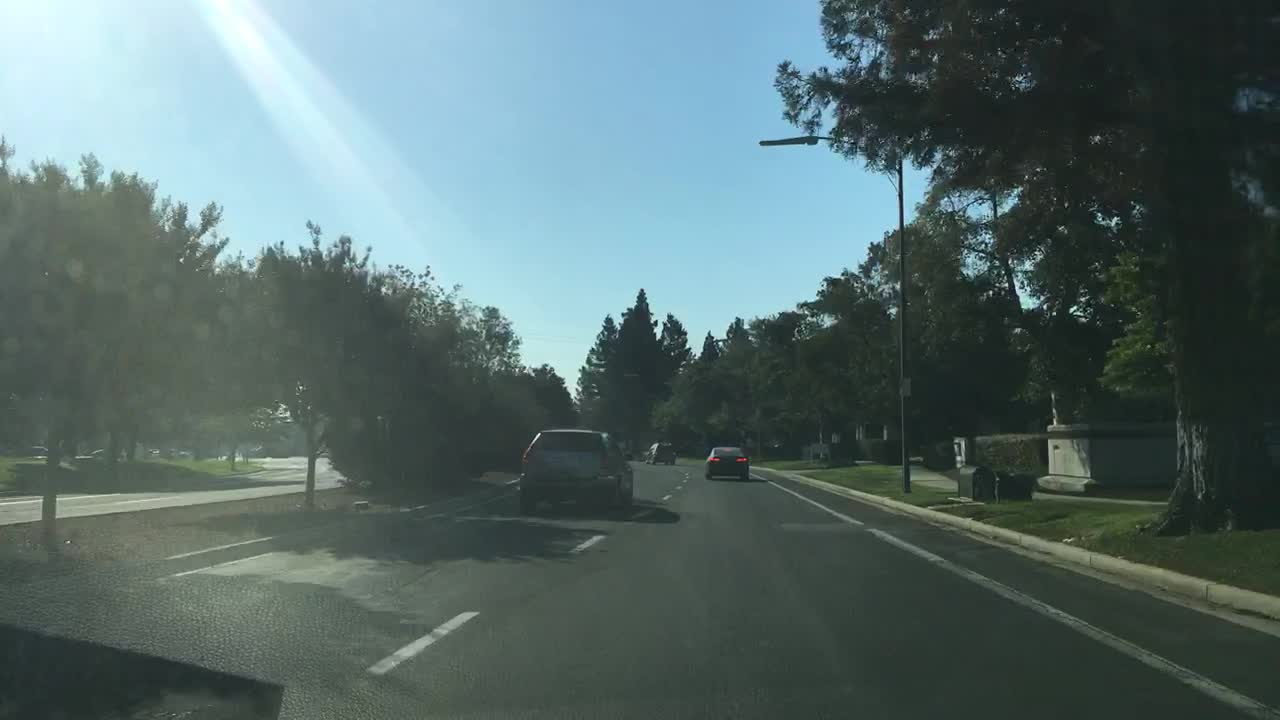car: (514, 425, 635, 512), (704, 444, 751, 484), (645, 439, 674, 464), (8, 445, 46, 455), (146, 445, 161, 455), (179, 448, 192, 456), (85, 447, 101, 453)
traffic sign: (903, 373, 911, 397)
